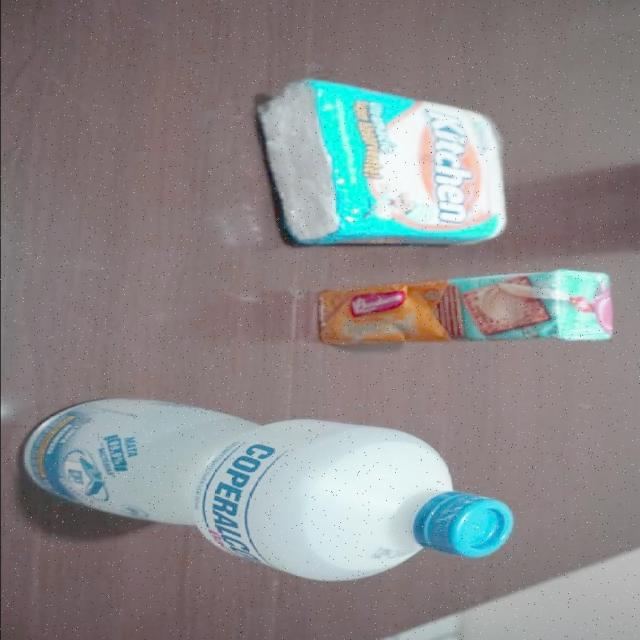AlcoholBottle: (20, 398, 512, 582)
Cracker: (314, 269, 616, 345)
Napkin: (255, 79, 507, 247)
